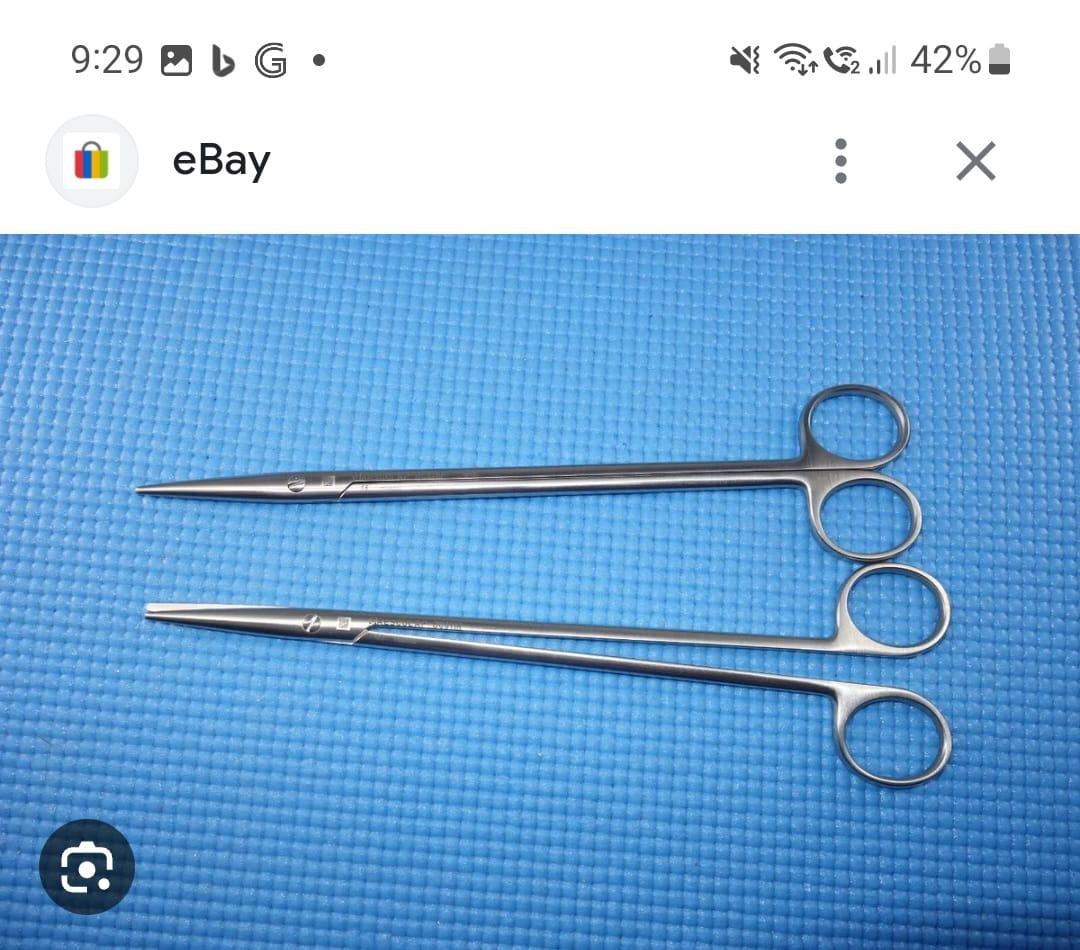Metzenbaum Sciccors: (136, 559, 967, 790), (126, 366, 927, 561)
